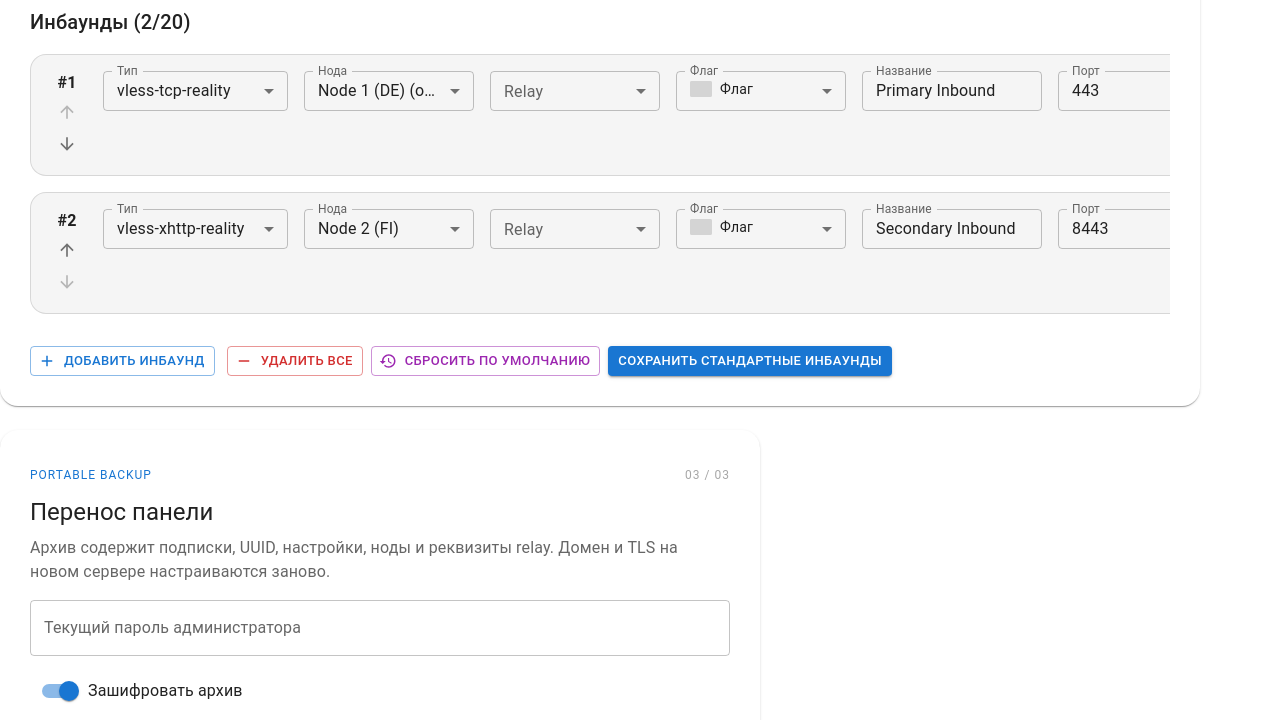
SettingsPage › displays standard inbounds section and saves custom inbounds with different nodes
The image size is (1280, 720).
(page scrolled)
Expected: the field showing "Primary Inbound" in the row of "(основная)" is shown, [862,71,1042,111]
Expected: the field showing "Secondary Inbound" in the row of "Node 2 (FI)" is shown, [862,209,1042,249]
Click "Сохранить стандартные инбаунды"
Click the button "Сохранить стандартные инбаунды" at point(750, 361), box [608,346,892,376]
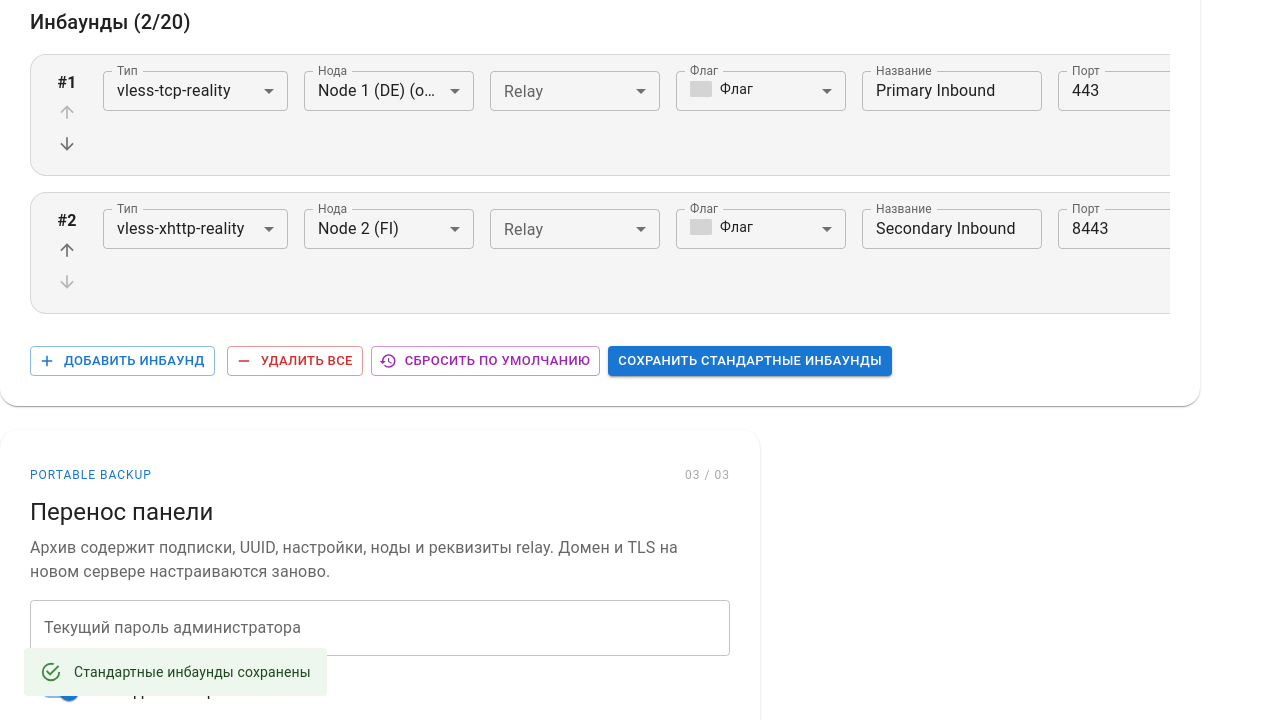
Now the text "Стандартные инбаунды сохранены" is shown, box [74,664,311,680]
